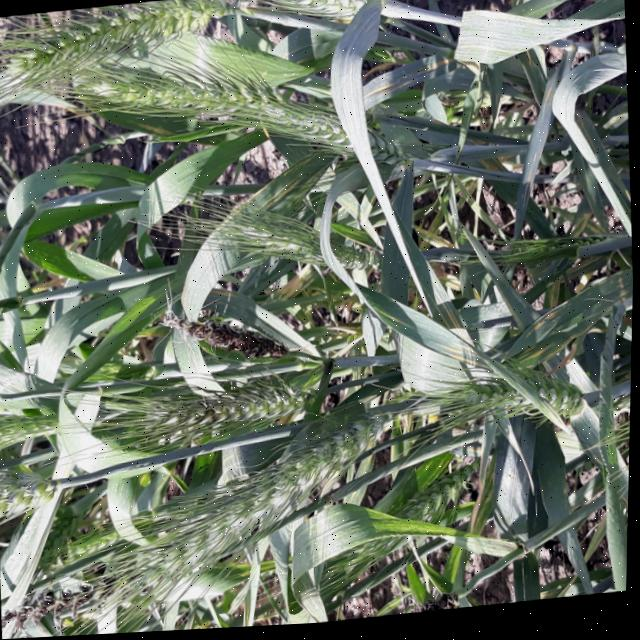loose_charred: (171, 277, 318, 414)
yellow_rust: (385, 284, 497, 395), (502, 284, 595, 393), (359, 42, 454, 125), (460, 442, 502, 544), (455, 47, 493, 116), (416, 213, 461, 267), (516, 149, 544, 225), (476, 150, 526, 188), (603, 270, 635, 326), (268, 413, 308, 437), (539, 84, 558, 130), (520, 51, 541, 85), (616, 473, 631, 520), (541, 589, 577, 606)
